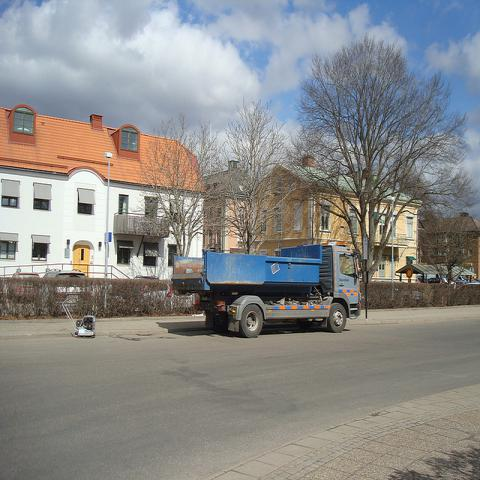car: (42, 268, 86, 278), (11, 271, 42, 278), (442, 278, 448, 283)
truck: (170, 241, 360, 340)
